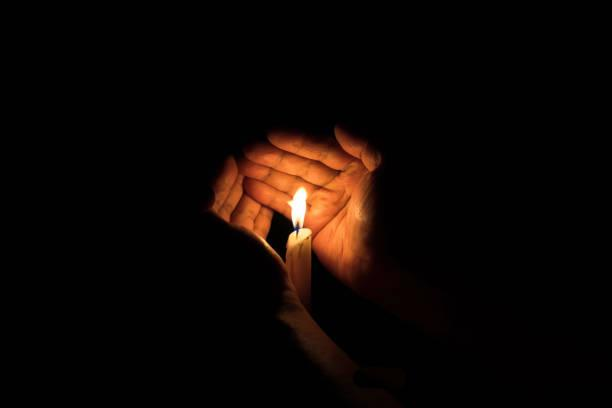Fire: (286, 184, 312, 233)
